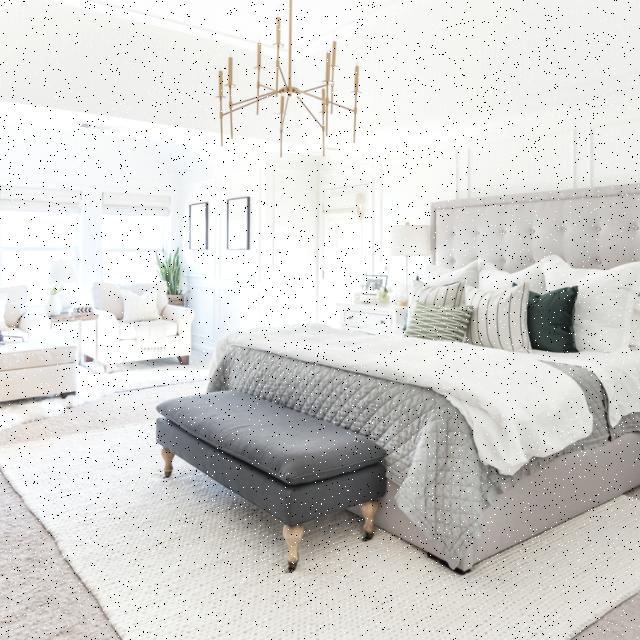bed: (215, 182, 640, 535)
